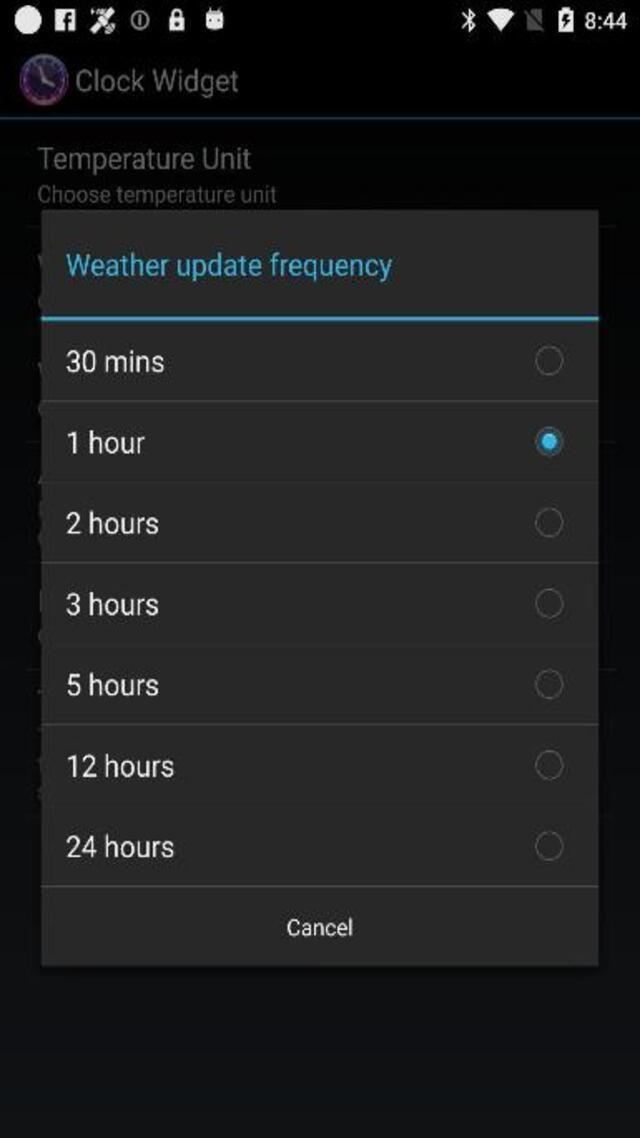CheckedTextView: (65, 346, 562, 376), (68, 508, 564, 538), (68, 588, 564, 618), (69, 426, 564, 456), (69, 668, 564, 698), (65, 832, 562, 861), (69, 750, 564, 779)
Image: (19, 54, 67, 106)
Text: (66, 252, 392, 282), (38, 148, 251, 176), (39, 185, 277, 206), (78, 68, 238, 98), (65, 835, 174, 858), (68, 753, 174, 776), (65, 350, 164, 372), (68, 673, 158, 696), (68, 512, 158, 534), (68, 592, 158, 614), (282, 914, 359, 939), (68, 429, 144, 452)
TextButton: (39, 884, 598, 966)
